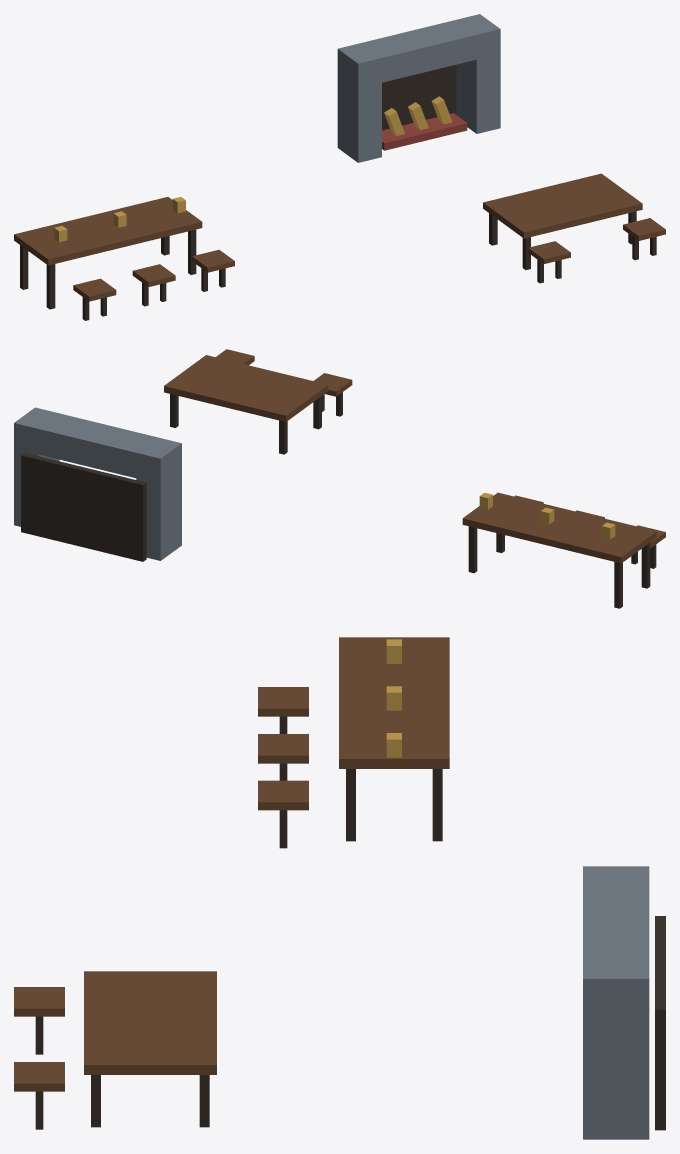
Rendered from hearth_tavern.glb.
3 views of the same model, one above another, from view 1: azimuth 30°, elevation 25°; view 2: azimuth 150°, elevation 25°; view 3: azimuth 270°, elevation 25° (orthographic). The views are drawn at different scales.
Parts seen in each view (by area): view 1: hearth_tavern; view 2: hearth_tavern; view 3: hearth_tavern.
Part boxes in pixels (box(x1,y1,x2,y2)): hearth_tavern: box(14, 14, 665, 320); hearth_tavern: box(14, 349, 665, 608); hearth_tavern: box(14, 637, 665, 1139).
Bounding box in the file's own units: 44.5 × 8 × 29.4.
